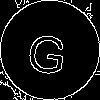G: (25, 25, 69, 75)
